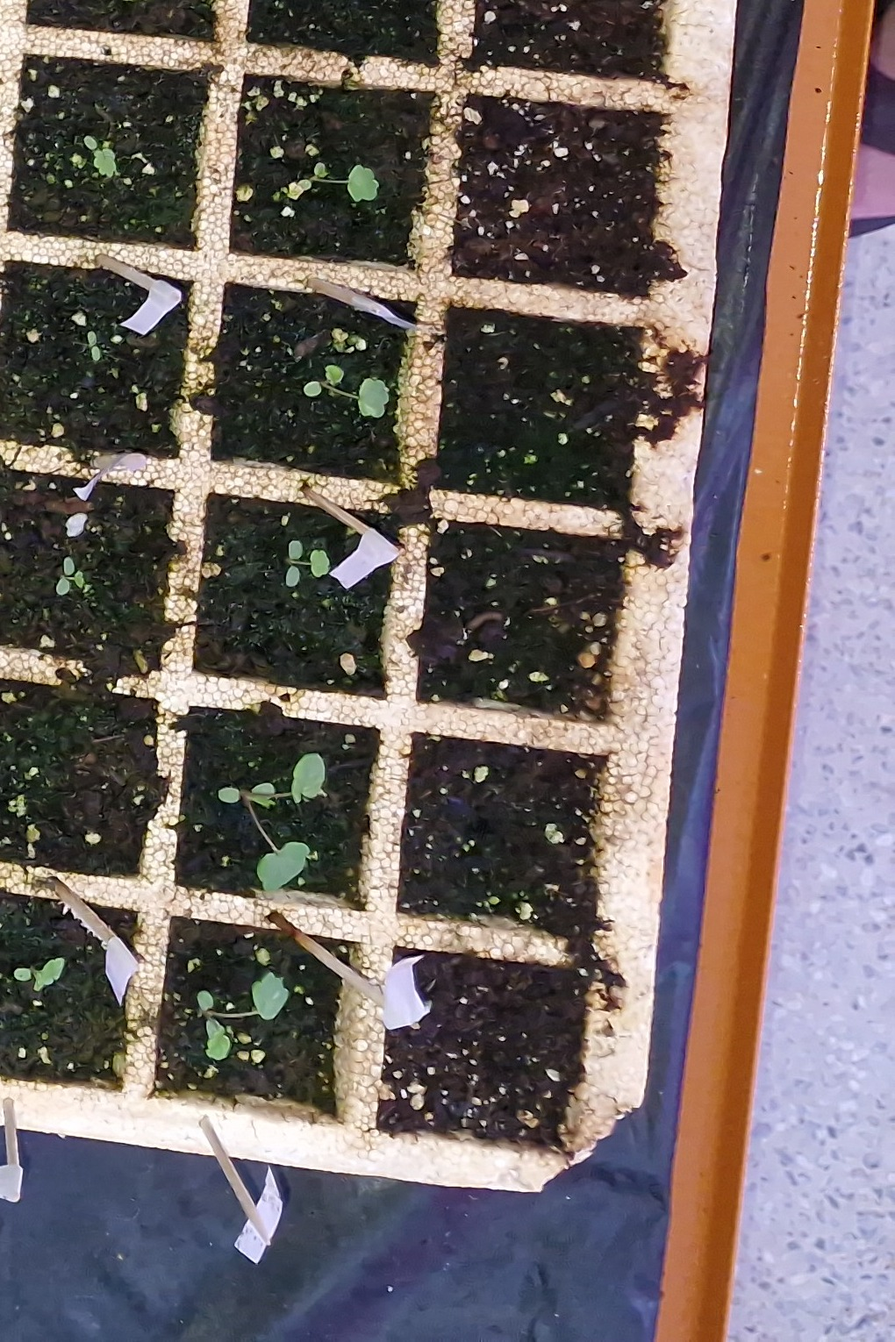Folha: (258, 842, 309, 891), (253, 971, 289, 1019), (292, 753, 325, 802), (359, 379, 388, 417), (348, 165, 378, 201), (205, 1025, 230, 1060), (93, 151, 116, 177), (42, 957, 64, 984), (310, 549, 329, 577), (325, 365, 344, 386), (252, 783, 274, 800), (218, 788, 240, 803), (198, 991, 214, 1011), (304, 381, 322, 397), (286, 566, 299, 586), (252, 798, 275, 809), (289, 541, 303, 559), (206, 1019, 218, 1038), (14, 968, 31, 981), (64, 556, 75, 575), (57, 578, 69, 594), (84, 136, 97, 150), (34, 973, 44, 991), (298, 179, 311, 191), (75, 570, 84, 587), (314, 163, 325, 176)
Germinacao: (219, 754, 325, 890), (197, 973, 289, 1060), (304, 365, 388, 417), (296, 163, 379, 202), (285, 541, 331, 586), (14, 958, 66, 991), (84, 136, 116, 177), (56, 556, 85, 595), (88, 332, 100, 361)
